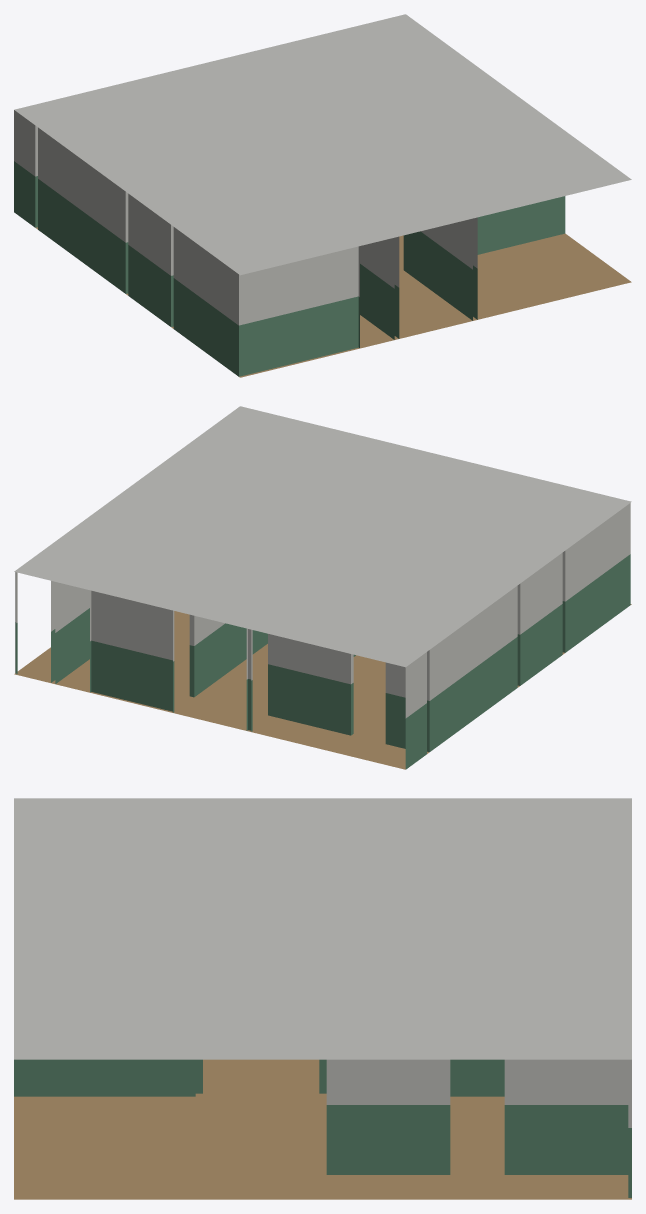
File: chunk_0_1.glb
The picture shows the model from 3 angles, top to bottom: view 1: azimuth 30°, elevation 25°; view 2: azimuth 150°, elevation 25°; view 3: azimuth 270°, elevation 25°; orthographic projection. The views are drawn at different scales.
Parts seen in each view (by area): view 1: chunk_0_1; view 2: chunk_0_1; view 3: chunk_0_1.
Part boxes in pixels (x1,y1,x2,y2): chunk_0_1: (14, 14, 631, 377); chunk_0_1: (14, 406, 631, 769); chunk_0_1: (14, 798, 631, 1199).
Size of the model in its own units: 12 by 3 by 12.
